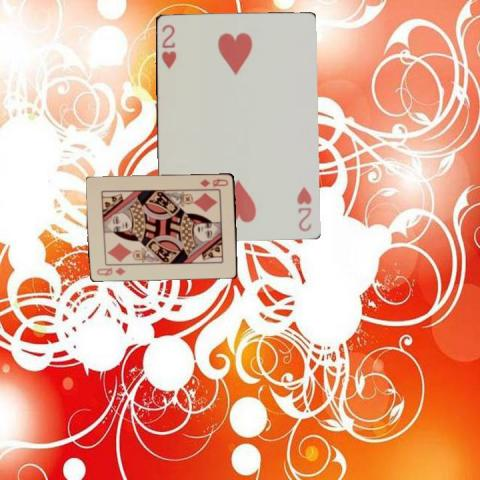2h: (294, 183, 313, 233), (158, 21, 177, 70)
Qd: (198, 175, 229, 189), (94, 264, 127, 277)
